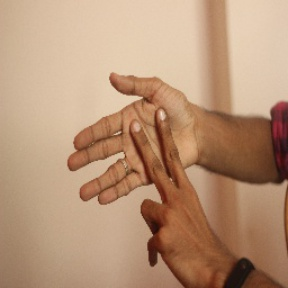N: (65, 70, 214, 267)
